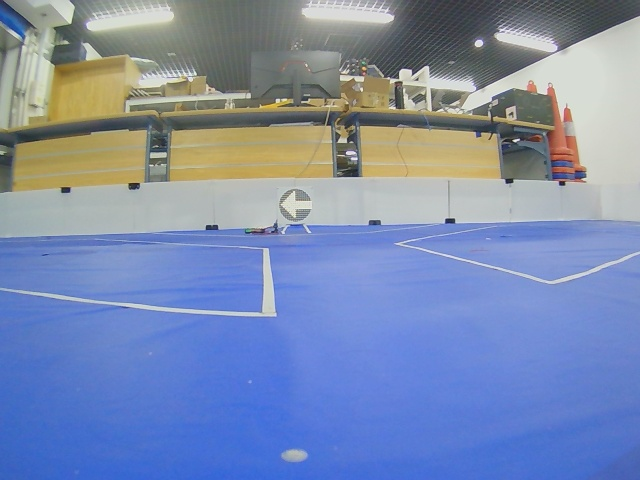left_yellow: (279, 188, 312, 222)
